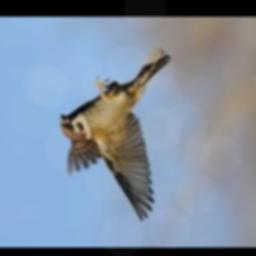Sparrow: (59, 46, 170, 221)
